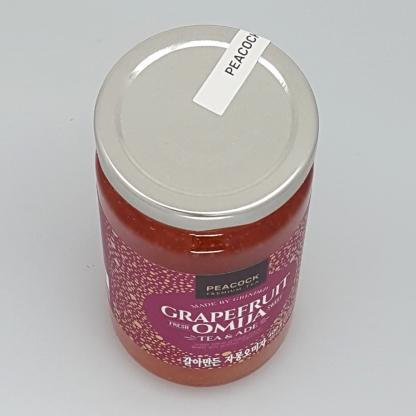---------------400G: (93, 24, 320, 387)
